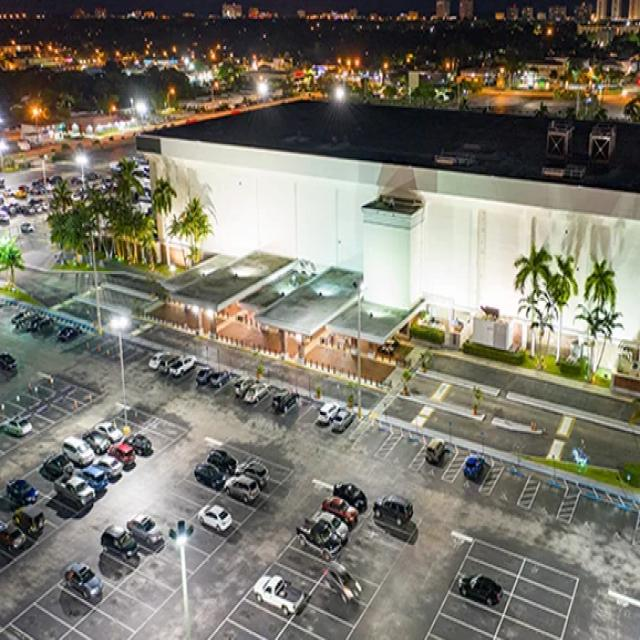libre: (0, 477, 255, 637), (423, 532, 588, 638), (0, 369, 103, 434), (348, 415, 426, 466)
ocupado: (2, 412, 164, 572), (141, 341, 361, 447), (481, 464, 633, 561), (285, 475, 425, 558), (187, 439, 280, 509), (100, 509, 175, 577), (7, 301, 91, 352), (58, 559, 114, 613)
